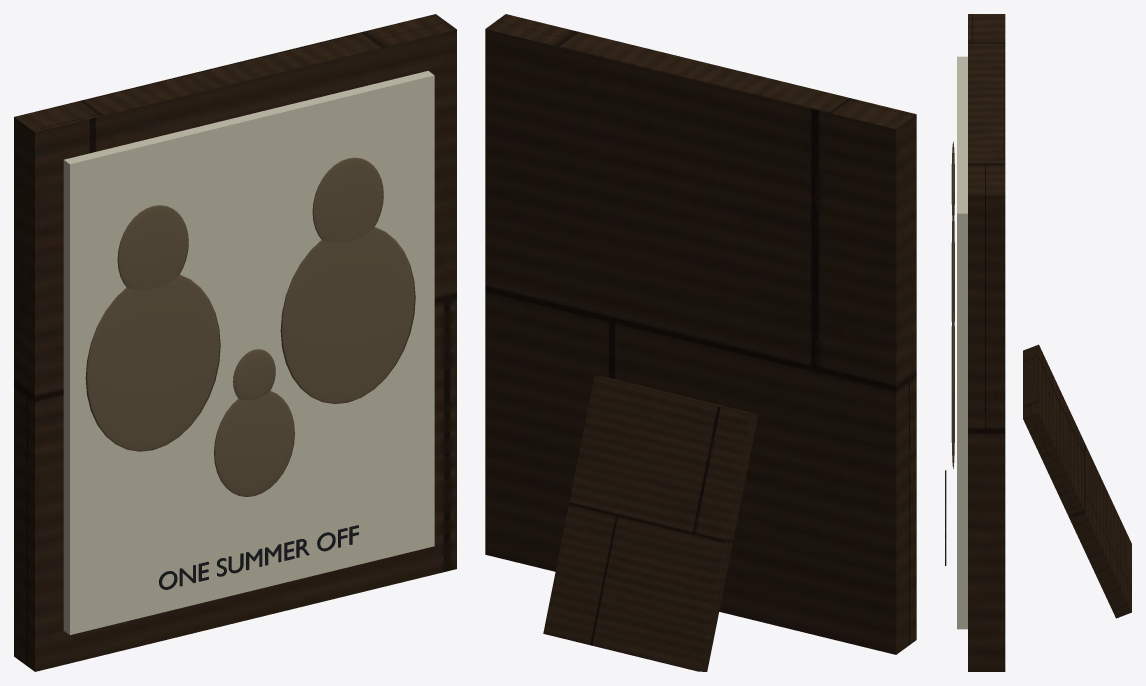
File: family-photo.glb
3 renders of one model, left to right at view 1: azimuth 30°, elevation 25°; view 2: azimuth 150°, elevation 25°; view 3: azimuth 270°, elevation 25°, orthographic. The views are drawn at different scales.
Visible parts, largest first — view 1: Aged photograph paper, Timber family picture frame, Photographic shoulders silhouette.001, Photographic shoulders silhouette, Photographic shoulders silhouette.002, Photographic head silhouette, Photographic head silhouette.001, Photo caption, Photographic head silhouette.002; view 2: Timber family picture frame, Photo support leg; view 3: Timber family picture frame, Photo support leg, Aged photograph paper, Photographic shoulders silhouette.001.
Boxes of the visible parts, left/top/right/bottom form: Aged photograph paper: left=63, top=71, right=434, bottom=634; Timber family picture frame: left=14, top=14, right=456, bottom=671; Photographic shoulders silhouette.001: left=280, top=227, right=415, bottom=403; Photographic shoulders silhouette: left=85, top=274, right=220, bottom=451; Photographic shoulders silhouette.002: left=214, top=391, right=294, bottom=496; Photographic head silhouette: left=117, top=205, right=188, bottom=290; Photographic head silhouette.001: left=312, top=157, right=383, bottom=242; Photo caption: left=159, top=525, right=358, bottom=589; Photographic head silhouette.002: left=233, top=349, right=275, bottom=400; Timber family picture frame: left=485, top=14, right=916, bottom=654; Photo support leg: left=543, top=376, right=758, bottom=671; Timber family picture frame: left=968, top=14, right=1005, bottom=671; Photo support leg: left=1023, top=344, right=1131, bottom=618; Aged photograph paper: left=957, top=56, right=967, bottom=629; Photographic shoulders silhouette.001: left=951, top=305, right=954, bottom=448.
Bounding box in the file's own units: 0.45 × 0.5536 × 0.1957.
Materials: 4 (1 with a texture image).
